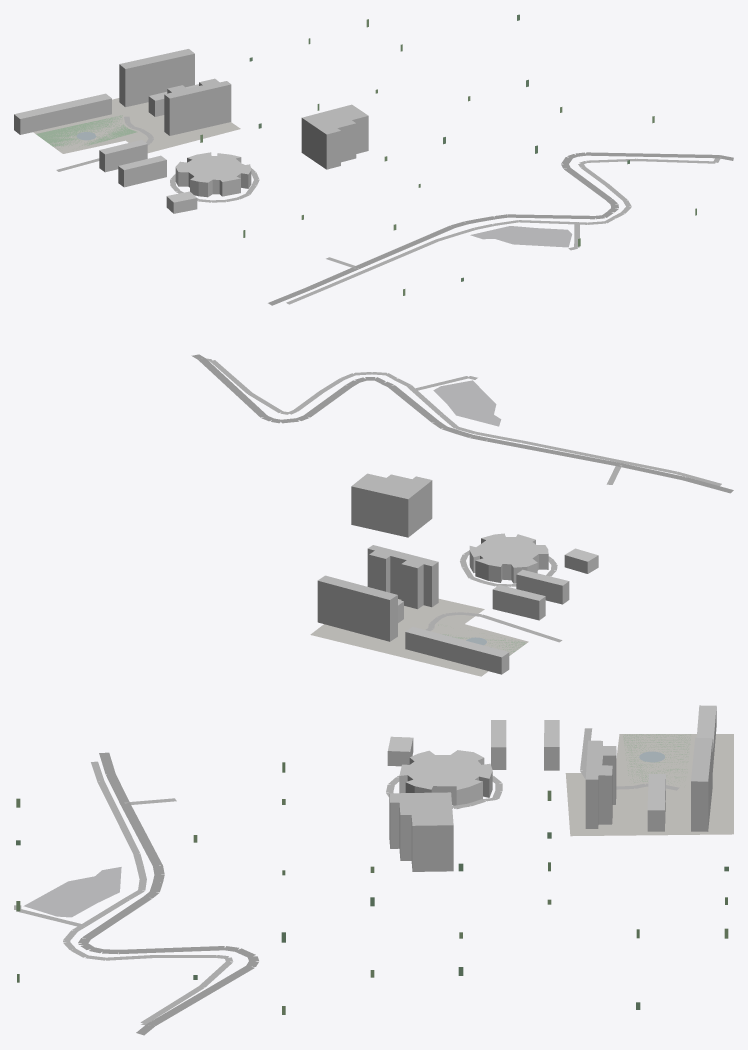
3 renders of one model, top to bottom at view 1: azimuth 30°, elevation 25°; view 2: azimuth 150°, elevation 25°; view 3: azimuth 270°, elevation 25°, orthographic. The views are drawn at different scales.
Bounding box in the file's own units: 521 × 49.9 × 488.
